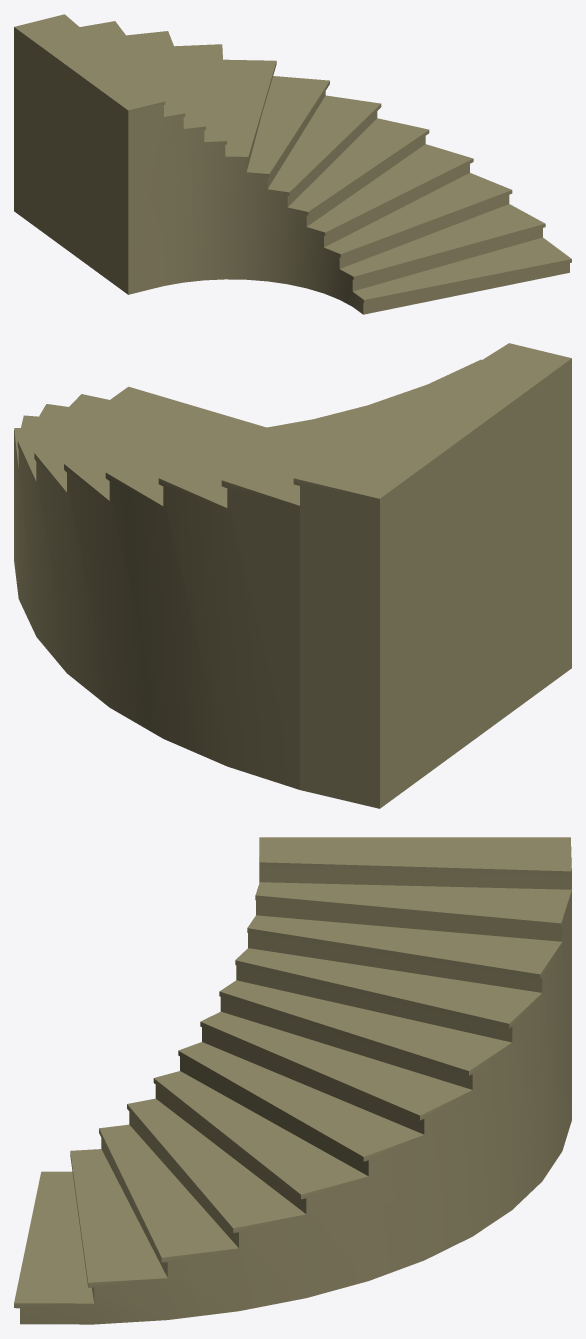
The model's file is mesh_EscaleraCurva_D.fbx.
3 views of the same model, one above another, from view 1: azimuth 30°, elevation 25°; view 2: azimuth 150°, elevation 25°; view 3: azimuth 270°, elevation 25° (orthographic). The views are drawn at different scales.
Visible parts, largest first — view 1: mesh_EscaleraCurva_D; view 2: mesh_EscaleraCurva_D; view 3: mesh_EscaleraCurva_D.
Boxes of the visible parts, left/top/right/bottom form: mesh_EscaleraCurva_D: left=14, top=14, right=571, bottom=314; mesh_EscaleraCurva_D: left=14, top=343, right=571, bottom=808; mesh_EscaleraCurva_D: left=14, top=837, right=571, bottom=1324.
Bounding box in the file's own units: 2960 × 1471 × 2960.
